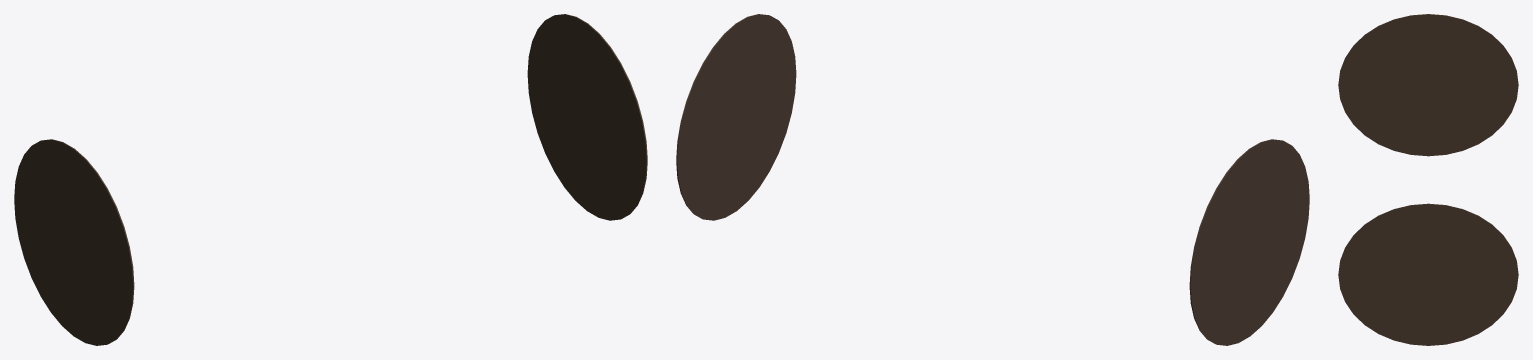
Rendered from BarcoCostadoS.fbx.
The picture shows the model from 3 angles, left to right: view 1: azimuth 30°, elevation 25°; view 2: azimuth 150°, elevation 25°; view 3: azimuth 270°, elevation 25°; orthographic projection. The views are drawn at different scales.
Parts seen in each view (by area): view 1: BarcoCostadoS; view 2: BarcoCostadoS; view 3: BarcoCostadoS.
Boxes of the visible parts, left/top/right/bottom form: BarcoCostadoS: left=14, top=14, right=647, bottom=345; BarcoCostadoS: left=676, top=14, right=1309, bottom=345; BarcoCostadoS: left=1338, top=14, right=1518, bottom=345.
Bounding box in the file's own units: 4474 × 1556 × 1793.
